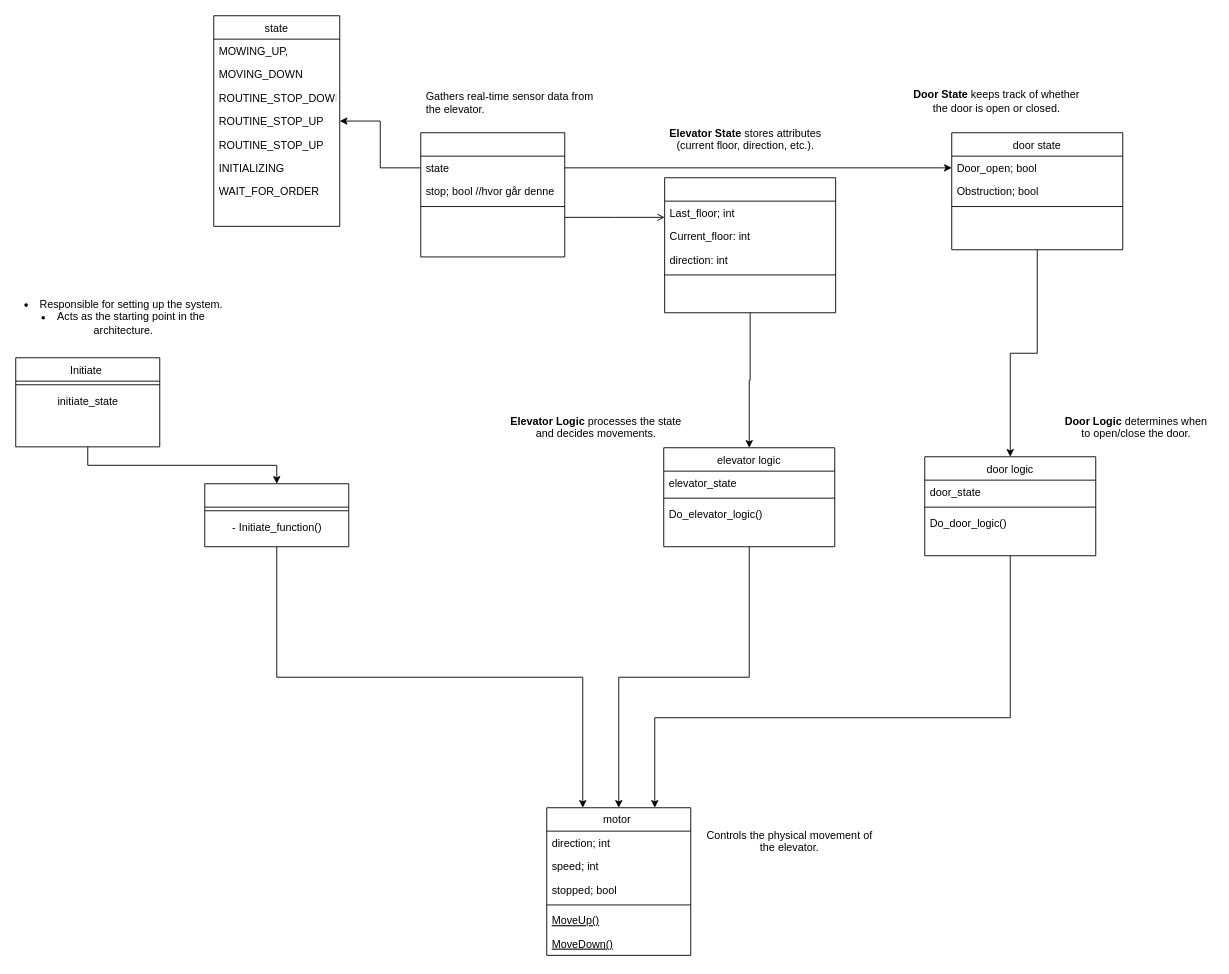
The diagram is 1229 pixels wide and 974 high, and some of its shapes have lost their labels. The box of each missing label's shape, as (x1, y1, x2, y2) in pixels:
elevator state: (664, 177, 836, 313)
initialize logic: (204, 483, 349, 547)
Sensorsystem: (420, 132, 565, 257)
